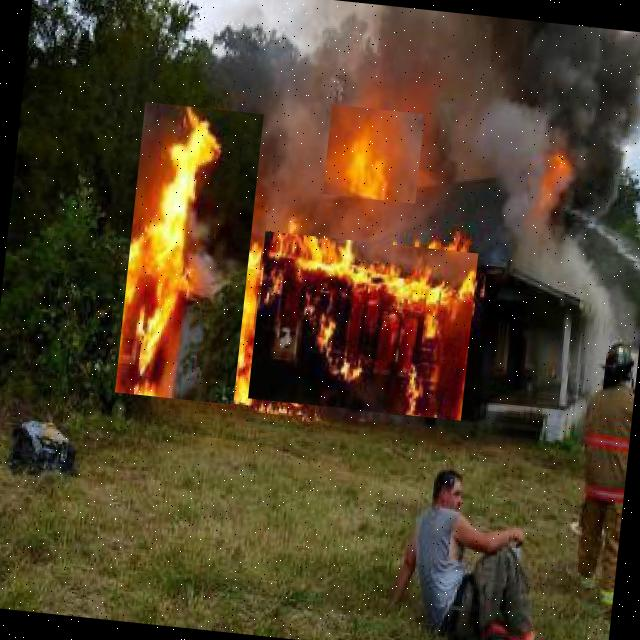fire: (114, 102, 264, 404), (248, 231, 478, 420), (322, 104, 424, 203), (526, 144, 578, 226)
